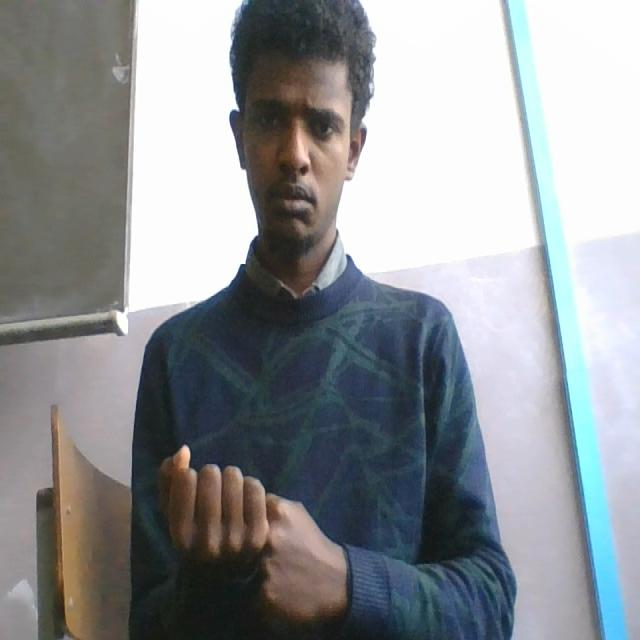beg: (148, 438, 358, 636)
